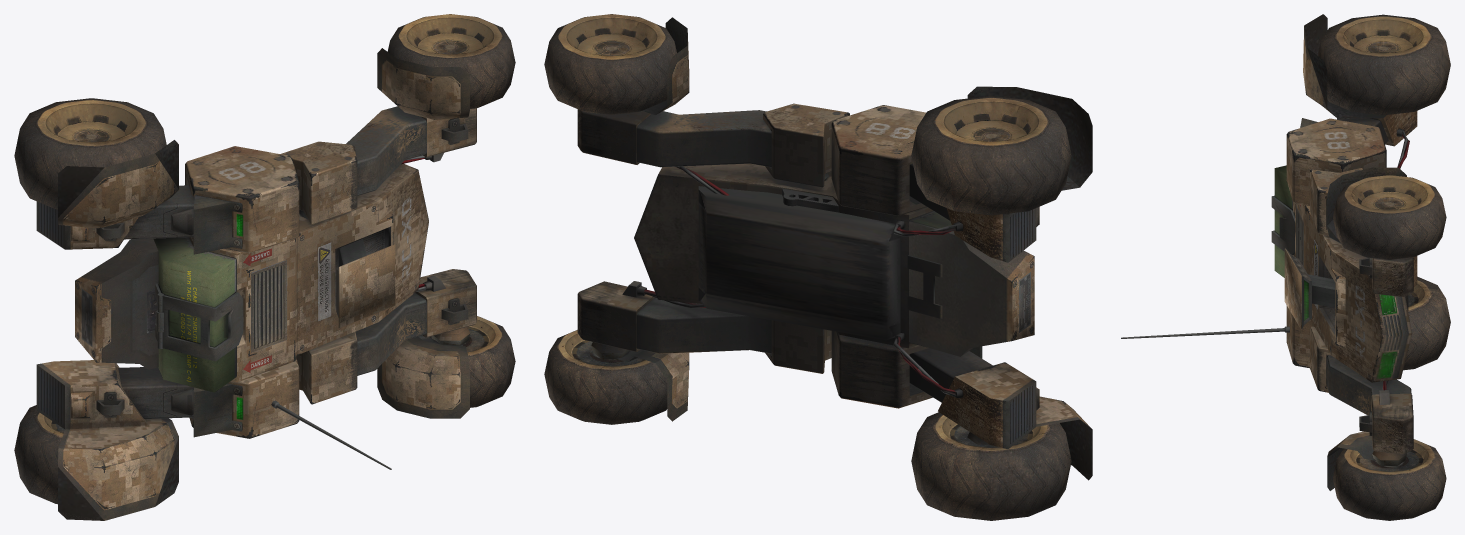
File: veh_t6_drone_rcxd_LOD1.obj
The picture shows the model from 3 angles, left to right: view 1: azimuth 30°, elevation 25°; view 2: azimuth 150°, elevation 25°; view 3: azimuth 270°, elevation 25°; orthographic projection. The views are drawn at different scales.
Visible parts, largest first — view 1: mtl_veh_t6_rcxd, mtl_veh_t6_rcxd_extra_bits, mtl_veh_t6_rcxd_wheels; view 2: mtl_veh_t6_rcxd, mtl_veh_t6_rcxd_wheels, mtl_veh_t6_rcxd_extra_bits; view 3: mtl_veh_t6_rcxd, mtl_veh_t6_rcxd_wheels, mtl_veh_t6_rcxd_extra_bits.
Boxes of the visible parts, bbox=[...] form: mtl_veh_t6_rcxd: bbox=[118, 106, 476, 469]; mtl_veh_t6_rcxd_extra_bits: bbox=[36, 48, 469, 520]; mtl_veh_t6_rcxd_wheels: bbox=[14, 14, 515, 504]; mtl_veh_t6_rcxd: bbox=[577, 103, 992, 444]; mtl_veh_t6_rcxd_wheels: bbox=[544, 14, 1071, 520]; mtl_veh_t6_rcxd_extra_bits: bbox=[616, 17, 1092, 480]; mtl_veh_t6_rcxd: bbox=[1121, 118, 1413, 465]; mtl_veh_t6_rcxd_wheels: bbox=[1318, 14, 1450, 520]; mtl_veh_t6_rcxd_extra_bits: bbox=[1300, 14, 1417, 490].
Bounding box in the file's own units: 93.45 × 66.18 × 62.94.
